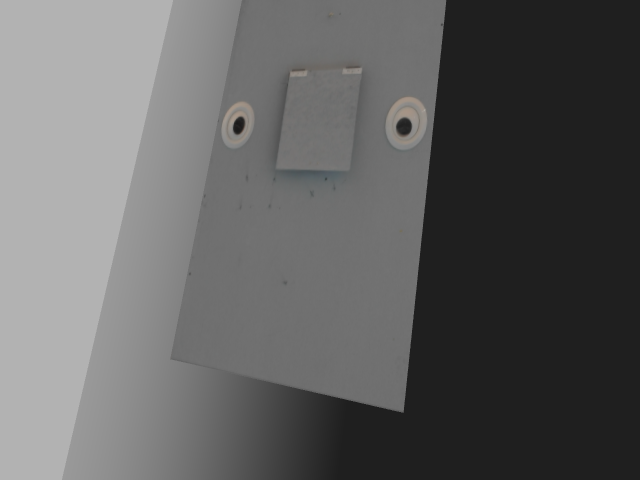facade: (218, 64, 428, 173)
